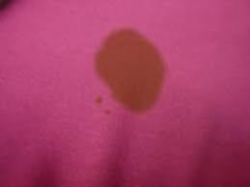oil: (95, 27, 170, 119)
